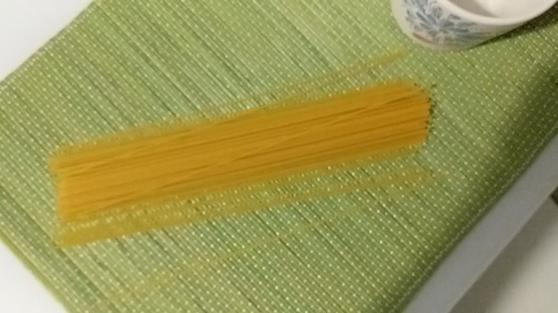spaghetti: (40, 70, 437, 234)
